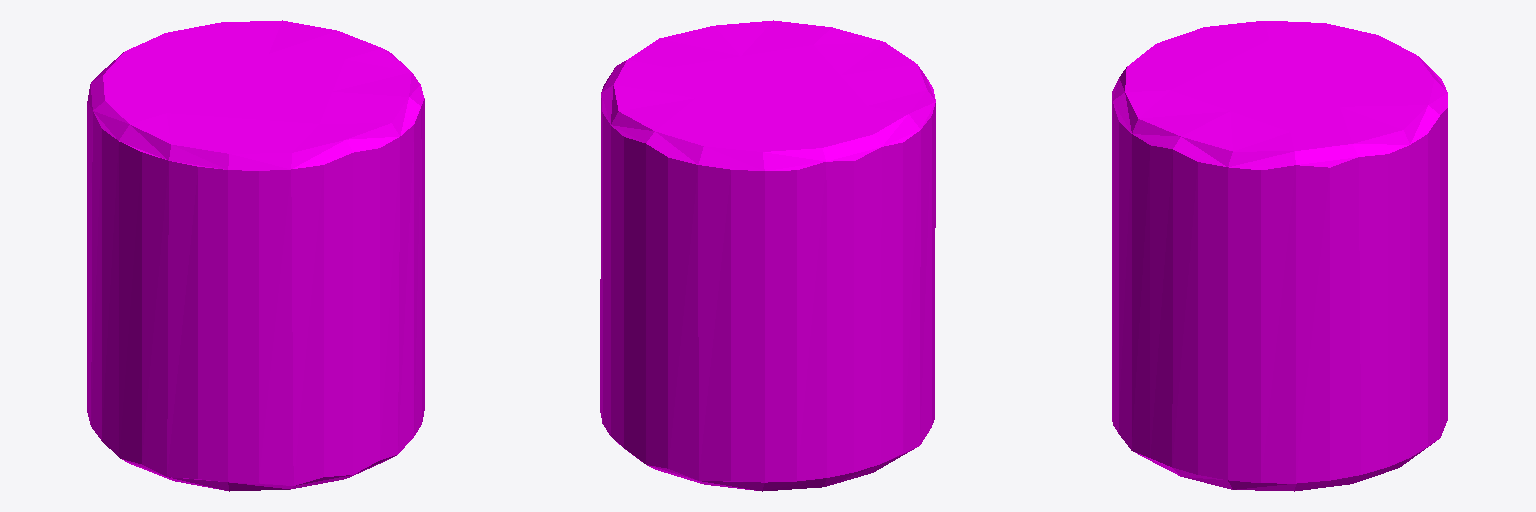
robot.urdf — cylinder_magenta.urdf:
<?xml version="1.0" ?>
<robot name="cylinder_magenta.urdf">
  <link name="baseLink">
    <contact>
      <friction_anchor/>
      <lateral_friction value="1.0"/>
      <rolling_friction value="0.0"/>
    </contact>
    <inertial>
      <origin rpy="0 0 0" xyz="0 0 0"/>
      <mass value="0.1"/>
      <inertia ixx="1" ixy="0" ixz="0" iyy="1" iyz="0" izz="1"/>
    </inertial>
    <visual>
      <origin rpy="0 0 0" xyz="0 0 0"/>
      <geometry>
        <mesh filename="../base_objects/cylinder.obj" scale="1.2 1.2 1.2"/> <!-- <mesh filename="../base_objects/cylinder.obj" -->
      </geometry>
      <material name="magenta">
        <color rgba="1 0 1 1"/>
      </material>
    </visual>
    <collision>
      <origin rpy="0 0 0" xyz="0 0 0"/>
      <geometry>
        <mesh filename="../base_objects/cylinder.obj" scale="1.2 1.2 1.2"/> <!-- <mesh filename="../base_objects/cylinder.obj" -->
      </geometry>
    </collision>
  </link>
  <type value="cylinder"/>
</robot>

--- Render facts (derived) ---
3 views of the same robot in one strip: view 1: azimuth 30°, elevation 25°; view 2: azimuth 150°, elevation 25°; view 3: azimuth 270°, elevation 25° (orthographic).
Model cylinder_magenta.urdf with 1 links and 0 joints (none), rooted at baseLink, posed every joint at zero.
Links seen in each view (by area): view 1: baseLink; view 2: baseLink; view 3: baseLink.
Link boxes in pixels (x1=…): baseLink: x1=87, y1=20, x2=424, y2=491; baseLink: x1=600, y1=20, x2=935, y2=491; baseLink: x1=1112, y1=21, x2=1447, y2=491.
Bounding box of the posed robot: 0.0538 × 0.0537 × 0.06 m (x, y, z).
Meshes: 1 distinct files referenced, 1 mesh visuals loaded (1 OBJ).